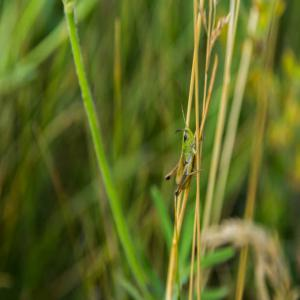locust: (162, 78, 215, 236)
